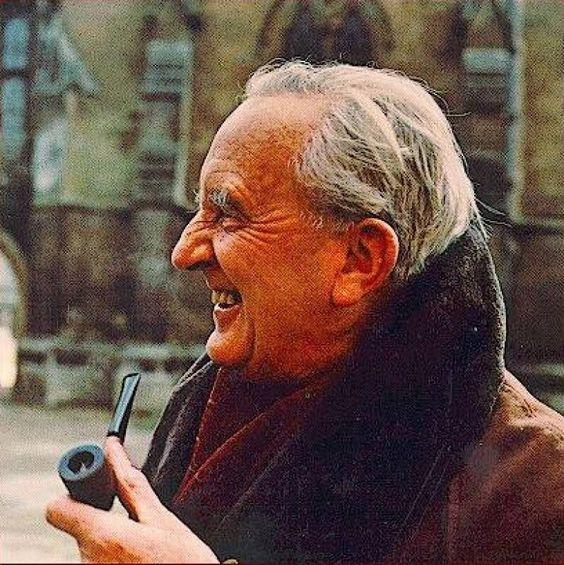trubka: (59, 373, 142, 512)
